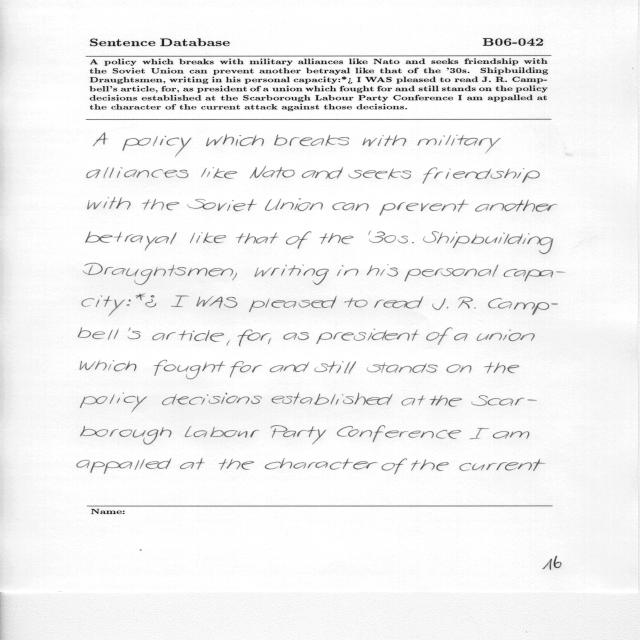word: (84, 263, 233, 285), (423, 231, 553, 254), (422, 167, 540, 184), (337, 426, 461, 442), (86, 231, 177, 251), (81, 426, 172, 445), (405, 265, 499, 282), (254, 264, 329, 285), (316, 329, 419, 344), (379, 199, 469, 216), (77, 458, 171, 474), (418, 135, 501, 153), (122, 136, 192, 157), (272, 393, 393, 405), (249, 296, 337, 312), (154, 360, 226, 379), (265, 458, 378, 470), (80, 393, 147, 413), (162, 393, 262, 405), (488, 298, 558, 315), (87, 167, 188, 178), (475, 199, 557, 212), (271, 426, 327, 445), (460, 459, 546, 471), (82, 296, 125, 317), (274, 134, 349, 146), (152, 330, 224, 342), (187, 199, 257, 211), (185, 426, 260, 437), (504, 269, 566, 282), (367, 362, 438, 373), (265, 198, 323, 211), (79, 328, 141, 340), (471, 395, 537, 406), (206, 134, 264, 146), (477, 330, 535, 341), (80, 360, 137, 371), (349, 169, 411, 179), (374, 296, 424, 308), (250, 166, 295, 179), (238, 330, 271, 347), (88, 197, 131, 210), (315, 361, 357, 374), (230, 361, 262, 378), (368, 231, 408, 244), (236, 232, 279, 244), (196, 296, 238, 308), (302, 167, 343, 179), (363, 135, 407, 146), (426, 328, 453, 345), (411, 459, 449, 471), (286, 231, 311, 249), (201, 167, 237, 179), (143, 199, 180, 210), (367, 264, 398, 277), (382, 459, 407, 475), (190, 232, 226, 243), (429, 395, 462, 407), (270, 362, 309, 372), (319, 233, 354, 244), (484, 362, 519, 373), (219, 459, 254, 470), (332, 202, 369, 211), (180, 458, 205, 470), (493, 431, 529, 439), (136, 294, 157, 307), (401, 396, 426, 406), (337, 265, 359, 276), (344, 298, 368, 308), (447, 365, 472, 374), (469, 428, 489, 439), (171, 295, 189, 307), (458, 297, 476, 309), (283, 332, 309, 340), (432, 298, 449, 310), (93, 133, 108, 146), (454, 333, 468, 341), (232, 273, 237, 281), (127, 299, 131, 306), (227, 340, 231, 346), (268, 338, 271, 344), (151, 295, 155, 298), (412, 242, 414, 243)
